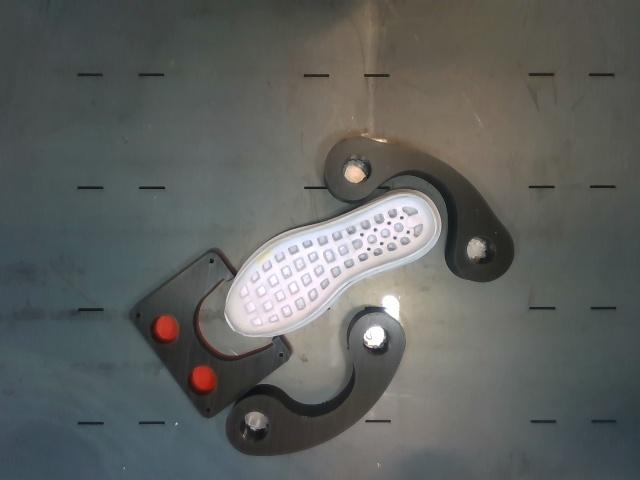shoes: (226, 196, 435, 335)
